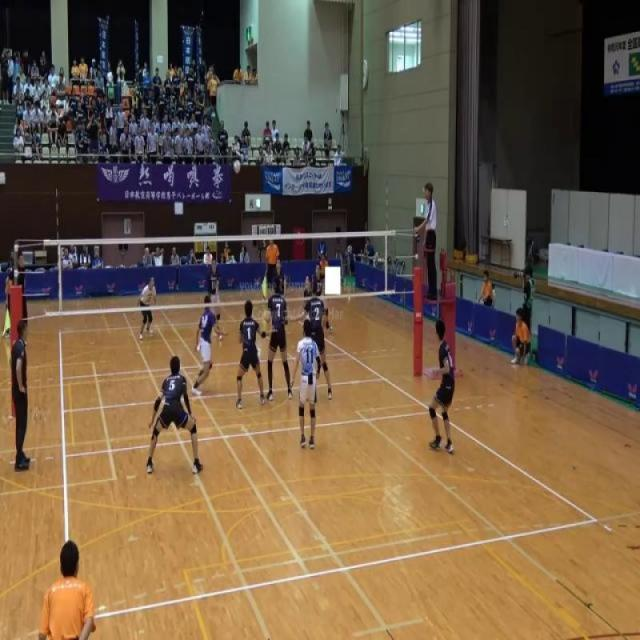volleyball: (233, 158, 241, 174)
